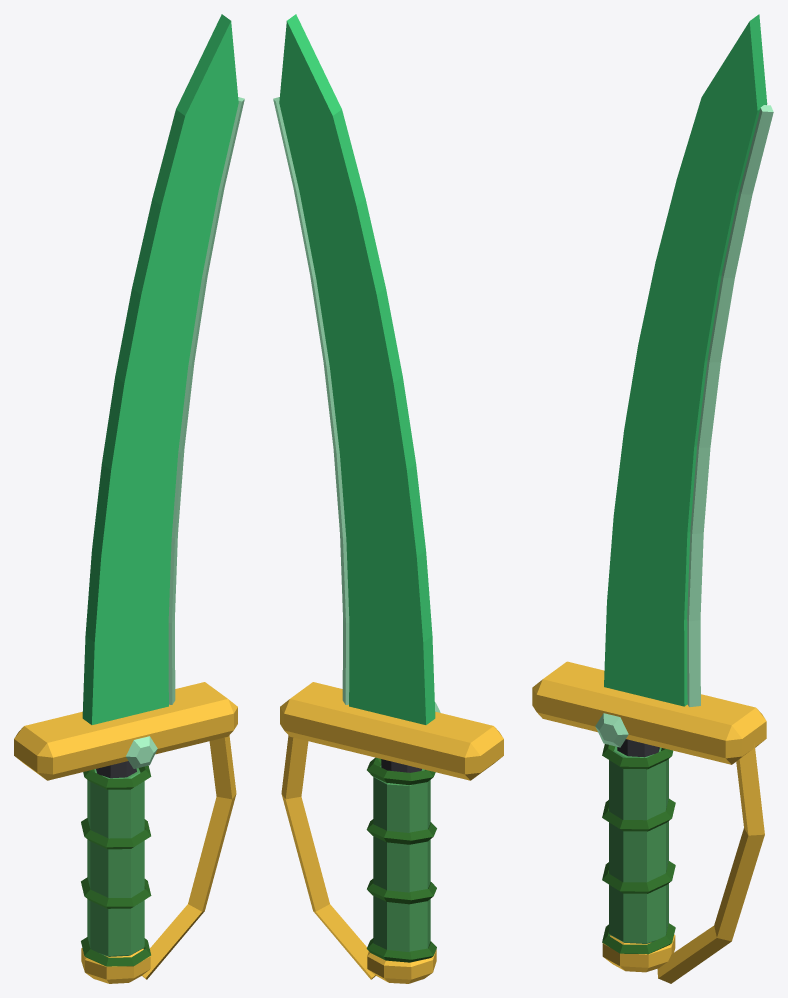
The model's file is EmeraldCutlass.fbx.
The picture shows the model from 3 angles, left to right: view 1: azimuth 30°, elevation 25°; view 2: azimuth 150°, elevation 25°; view 3: azimuth 330°, elevation 25°; orthographic projection. The views are drawn at different scales.
Visible parts, largest first — view 1: EmeraldCutlass; view 2: EmeraldCutlass; view 3: EmeraldCutlass.
Part boxes in pixels (x1,y1,x2,y2): EmeraldCutlass: (14,14,244,983); EmeraldCutlass: (273,14,503,983); EmeraldCutlass: (532,14,773,983).
Size of the model in its own units: 1.09 by 4.49 by 0.4065.
Materials: 1 (1 with a texture image).
